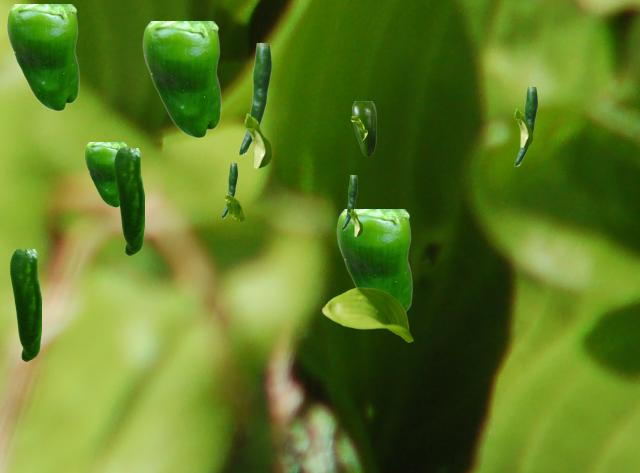green_chili: (142, 21, 220, 137), (336, 209, 411, 311), (6, 4, 78, 110), (238, 43, 270, 154), (10, 249, 40, 360), (114, 148, 143, 254), (84, 142, 127, 206), (514, 87, 536, 165), (352, 101, 375, 155), (341, 175, 356, 229), (221, 163, 236, 217)
